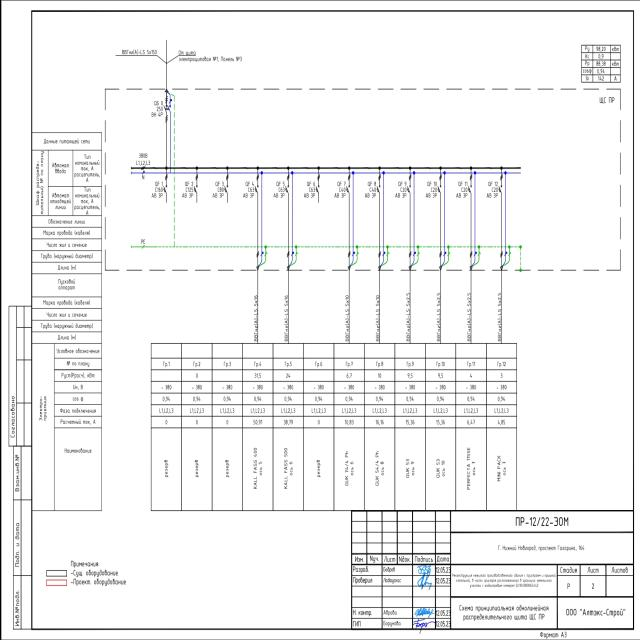-: (598, 95, 614, 106), (270, 186, 284, 198), (454, 188, 468, 200), (362, 186, 376, 198), (149, 186, 162, 198), (180, 187, 193, 199), (424, 186, 437, 198), (149, 106, 162, 118), (240, 186, 253, 198), (484, 186, 497, 198), (210, 187, 223, 199), (393, 186, 406, 198), (332, 187, 345, 199), (302, 187, 314, 199)
QF: (466, 186, 472, 196), (436, 184, 442, 194), (406, 184, 412, 194), (375, 184, 381, 194), (222, 184, 228, 194), (344, 184, 350, 194), (314, 183, 320, 193), (283, 184, 289, 194), (253, 184, 259, 194), (162, 184, 168, 194), (192, 184, 198, 194), (497, 184, 502, 194)
QS: (161, 104, 170, 114)
